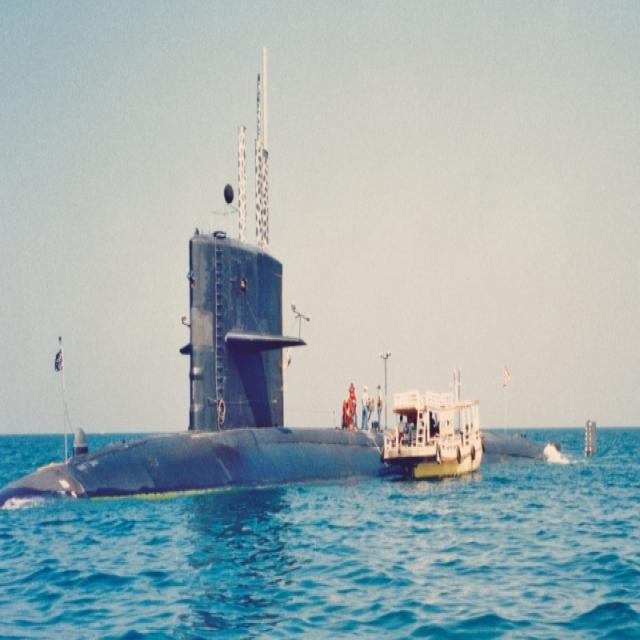submarine: (2, 234, 382, 505)
